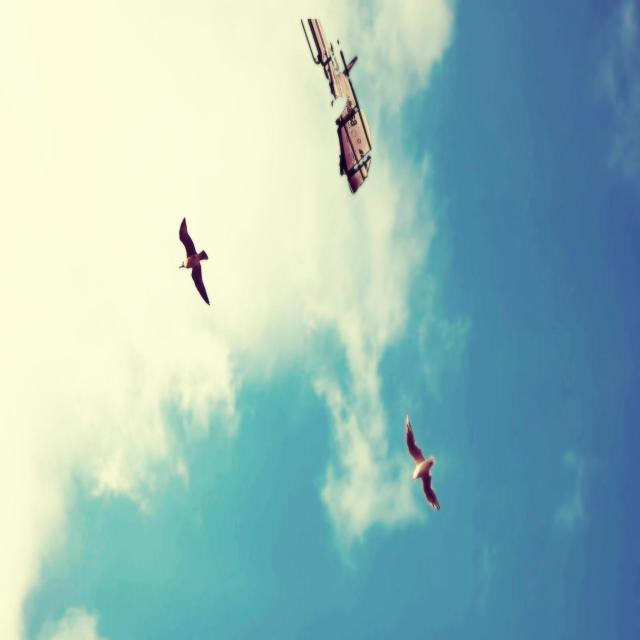airplane: (300, 16, 372, 194)
